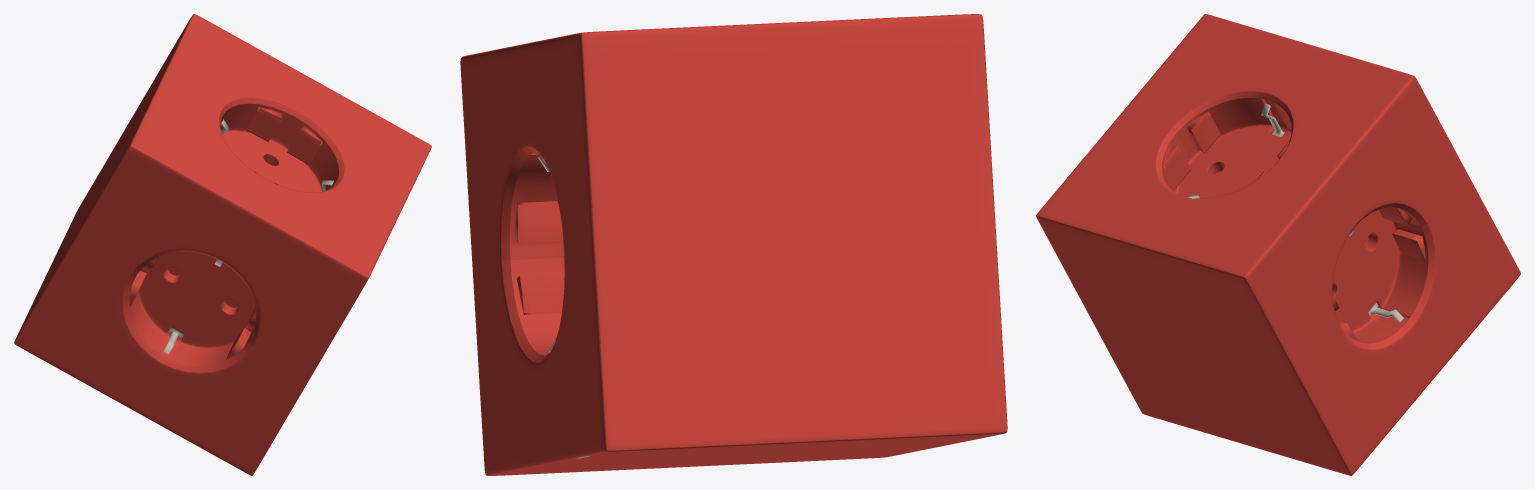
The model's file is switch.glb.
3 renders of one model, left to right at view 1: azimuth 30°, elevation 25°; view 2: azimuth 150°, elevation 25°; view 3: azimuth 270°, elevation 25°, orthographic. The views are drawn at different scales.
Visible parts, largest first — view 1: pasted__pUT_ULT_003_UV1_P6; view 2: pasted__pUT_ULT_003_UV1_P6; view 3: pasted__pUT_ULT_003_UV1_P6.
Boxes of the visible parts, bbox=[...] form: pasted__pUT_ULT_003_UV1_P6: bbox=[14, 14, 431, 475]; pasted__pUT_ULT_003_UV1_P6: bbox=[460, 14, 1007, 475]; pasted__pUT_ULT_003_UV1_P6: bbox=[1036, 14, 1520, 475].
Bounding box in the file's own units: 0.1238 × 0.1077 × 0.1266.
Materials: 1 (1 with a texture image).
